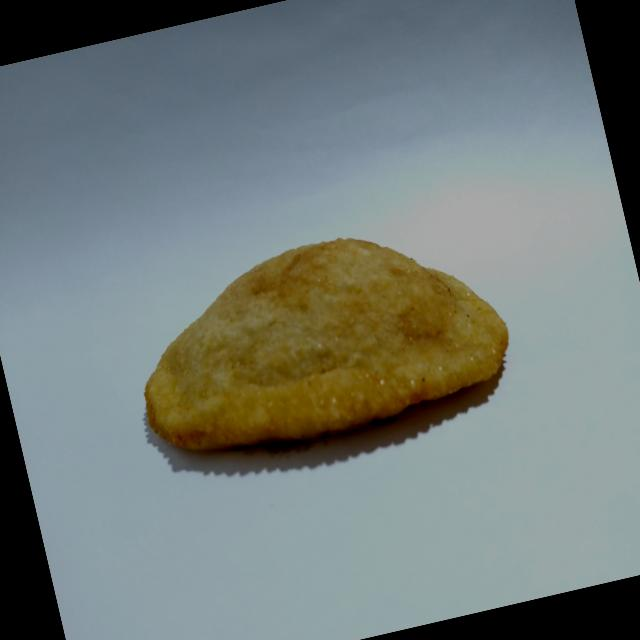Pastel_Mandio: (100, 193, 532, 497)
